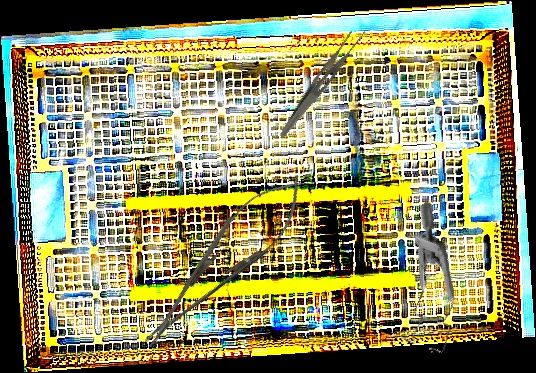Dressing Forceps: (277, 20, 369, 148)
Needle Holder: (125, 160, 321, 363)
Speculum: (346, 200, 502, 367)
